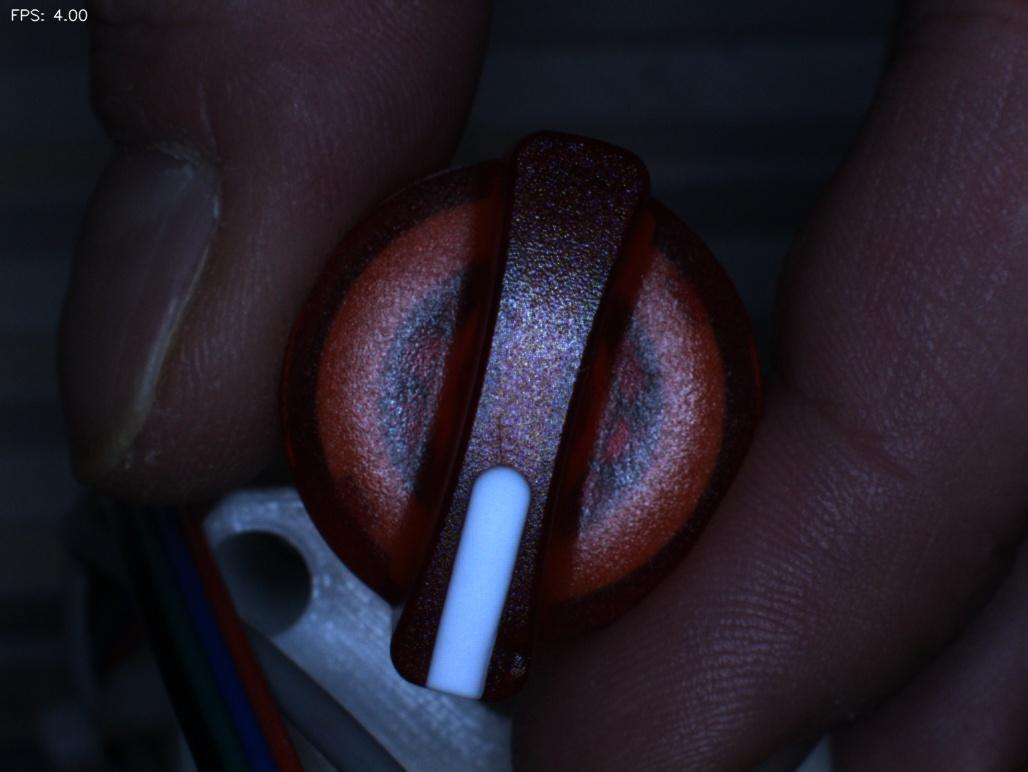Choc: (467, 629, 560, 709)
